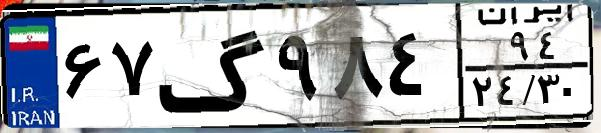0: (560, 70, 590, 125)
2: (470, 70, 495, 125)
3: (535, 70, 560, 125)
4: (385, 28, 445, 110), (537, 27, 568, 80), (495, 70, 520, 125)
6: (57, 26, 110, 100)
7: (110, 28, 156, 98)
8: (330, 28, 385, 110)
9: (270, 28, 330, 110), (508, 27, 537, 80)
گ: (156, 12, 270, 120)
